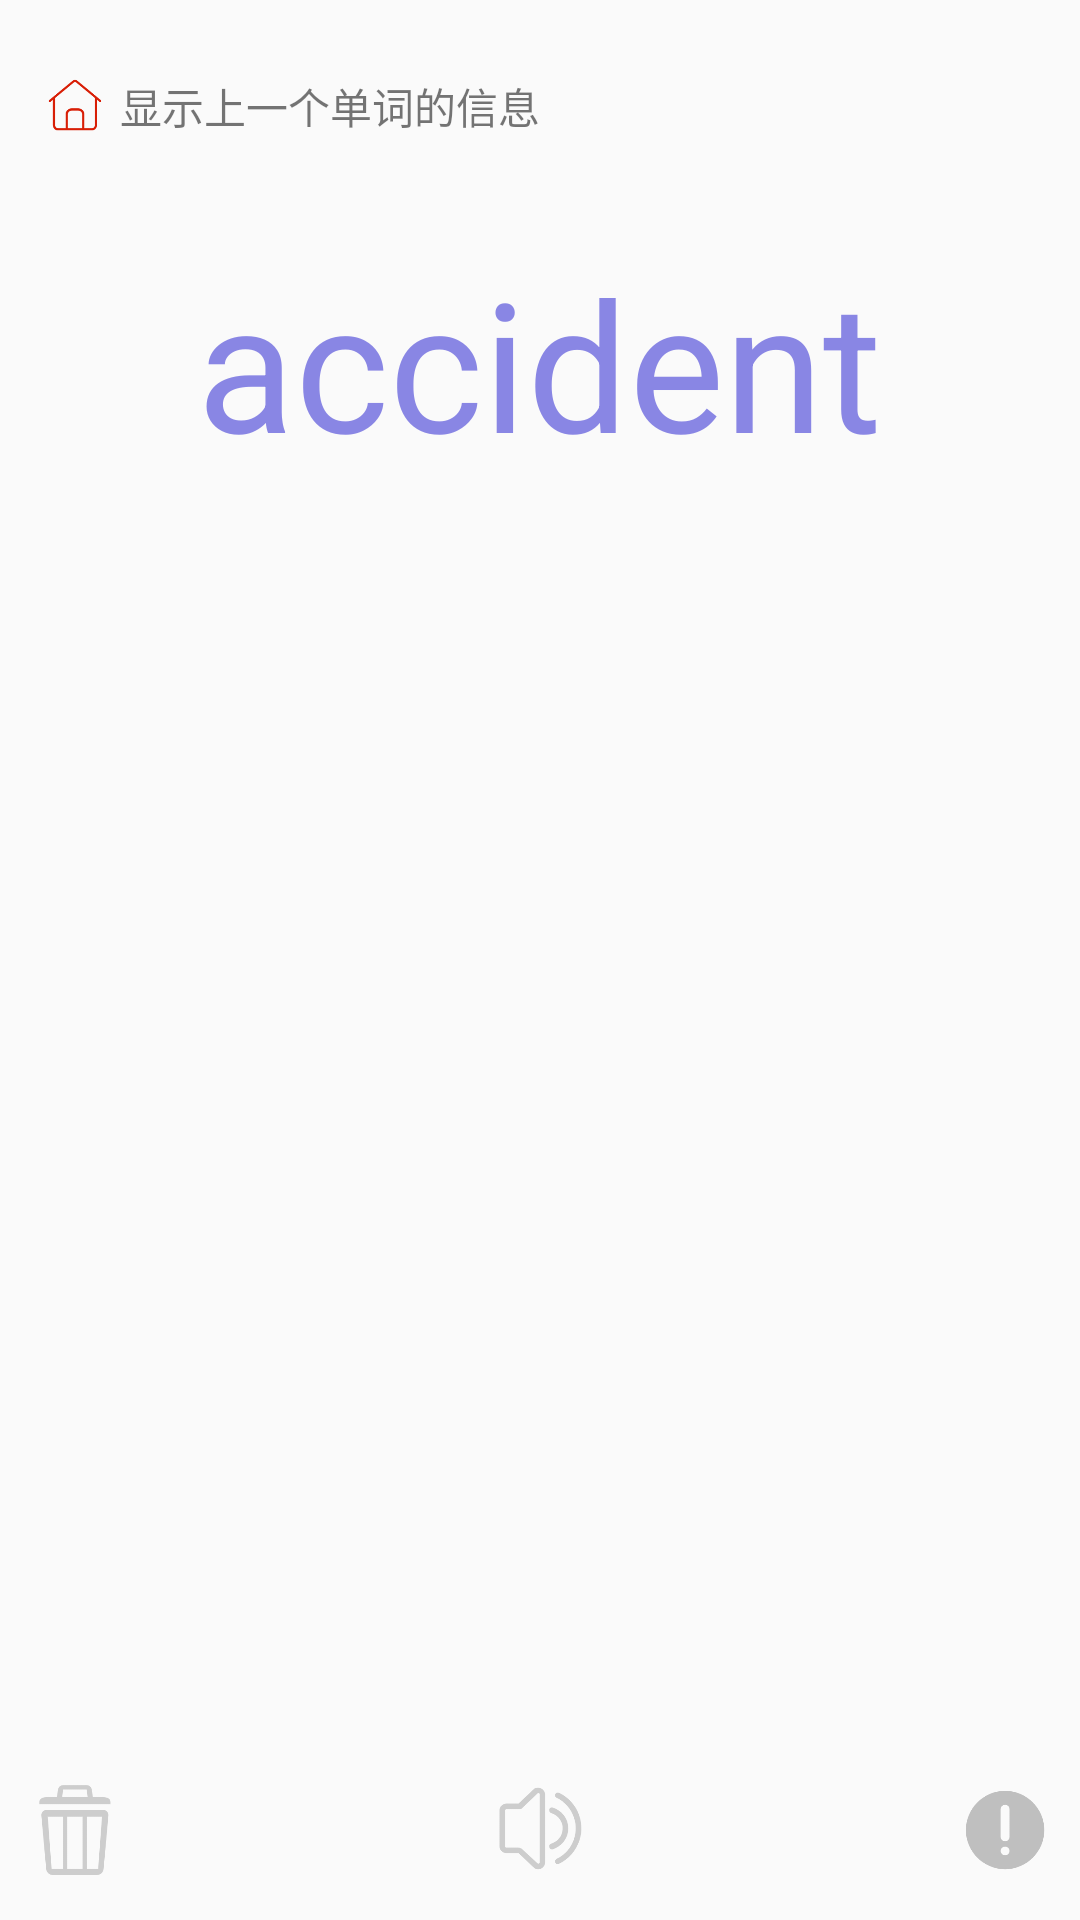

Locate icon controls on the screen. Image size 1080 x 1920, boxes as (x1, y1, x2, y2).
delete: (39, 1785, 110, 1875)
home: (49, 80, 101, 131)
tips: (966, 1791, 1044, 1869)
voice: (500, 1788, 581, 1869)
